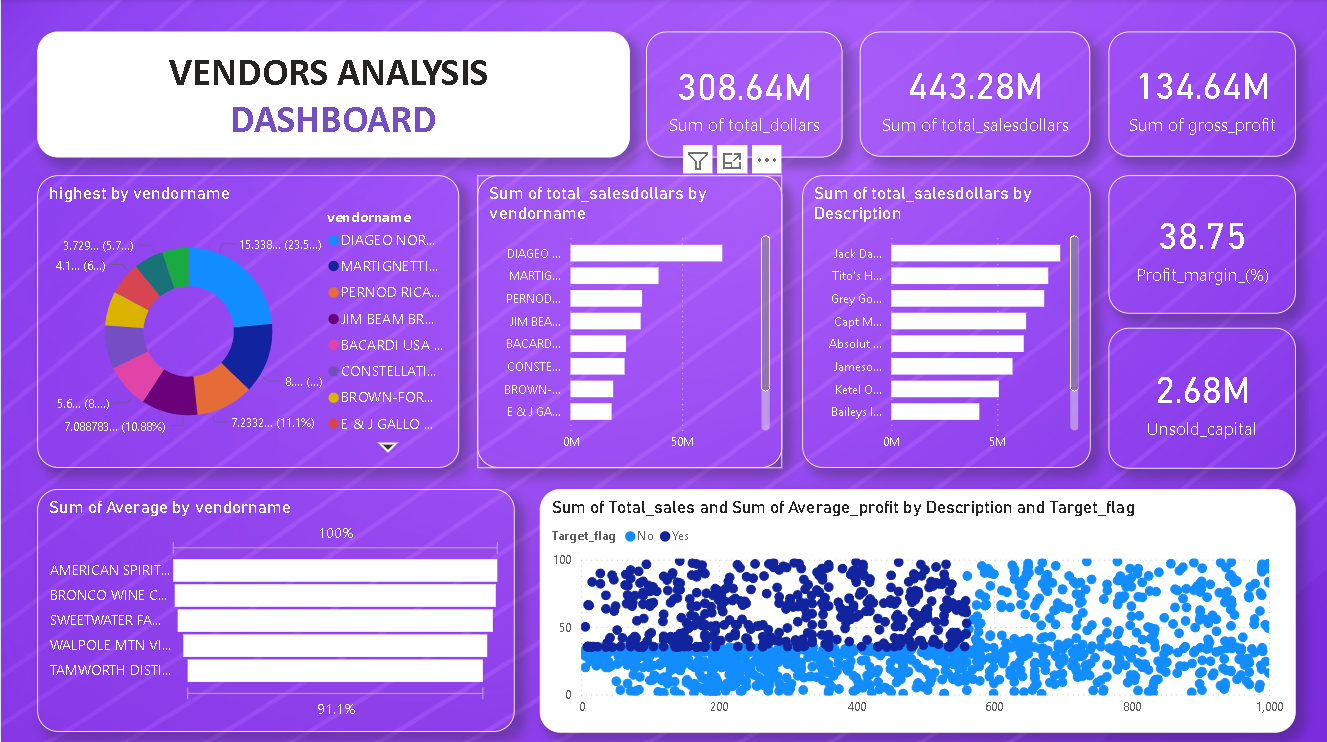

What the dashboard file says about the page in this screenshot:
{"tool":"powerbi","page":{"name":"Page 1","canvas":[1280,720],"ordinal":0},"visuals":[{"type":"card","fields":{"Values":["Final_vendor_data.total_dollars"]},"box":[622.5,31.4,189.4,121.9],"z":0},{"type":"card","fields":{"Values":["Final_vendor_data.total_salesdollars"]},"box":[829.1,31.8,222.6,121.1],"z":1000},{"type":"card","fields":{"Values":["Final_vendor_data.gross_profit"]},"box":[1068.8,31.8,181,121.1],"z":2000},{"type":"card","fields":{"Values":["Final_vendor_data.Profit_margin_average"]},"box":[1068.8,170,181,133.3],"z":3000},{"type":"card","fields":{"Values":["Final_vendor_data.Unsold_capital"]},"box":[1068.8,316.7,181,135.7],"z":4000},{"type":"barChart","fields":{"Category":["Final_vendor_data.vendorname"],"Y":["Final_vendor_data.total_salesdollars"]},"box":[459.7,170.1,294.4,282.3],"z":5000},{"type":"clusteredBarChart","fields":{"Category":["Final_vendor_data.Description"],"Y":["Final_vendor_data.total_salesdollars"]},"box":[773.3,170.1,278.7,282.3],"z":6000},{"type":"donutChart","fields":{"Category":["Final_vendor_data.vendorname"],"Y":["Final_vendor_data.highest"]},"box":[35.5,170,407.2,282.5],"z":7000},{"type":"scatterChart","fields":{"Category":["Brand_performance.Description"],"X":["Brand_performance.Total_sales"],"Y":["Brand_performance.Average_profit"],"Series":["Brand_performance.Target_flag"]},"box":[520,472.9,729.9,235.3],"z":8000},{"type":"funnel","fields":{"Category":["Low_performance.vendorname"],"Y":["Low_performance.Average"]},"box":[35.5,473.2,461,234.8],"z":9000},{"type":"textbox","box":[35,31.4,571.9,121.9],"z":10000}]}

Visuals, with their boxes in screenshot pixels (x1, y1, x2, y2), scaled from the page's 1280x720 canvas onto the 1327x742 screenshot:
card - Final_vendor_data.total_dollars: (645,32,842,158)
card - Final_vendor_data.total_salesdollars: (860,33,1090,158)
card - Final_vendor_data.gross_profit: (1108,33,1296,158)
card - Final_vendor_data.Profit_margin_average: (1108,175,1296,313)
card - Final_vendor_data.Unsold_capital: (1108,326,1296,466)
barChart - Final_vendor_data.vendorname x Final_vendor_data.total_salesdollars: (477,175,782,466)
clusteredBarChart - Final_vendor_data.Description x Final_vendor_data.total_salesdollars: (802,175,1091,466)
donutChart - Final_vendor_data.vendorname x Final_vendor_data.highest: (37,175,459,466)
scatterChart - Brand_performance.Description x Brand_performance.Total_sales: (539,487,1296,730)
funnel - Low_performance.vendorname x Low_performance.Average: (37,488,515,730)
textbox: (36,32,629,158)
